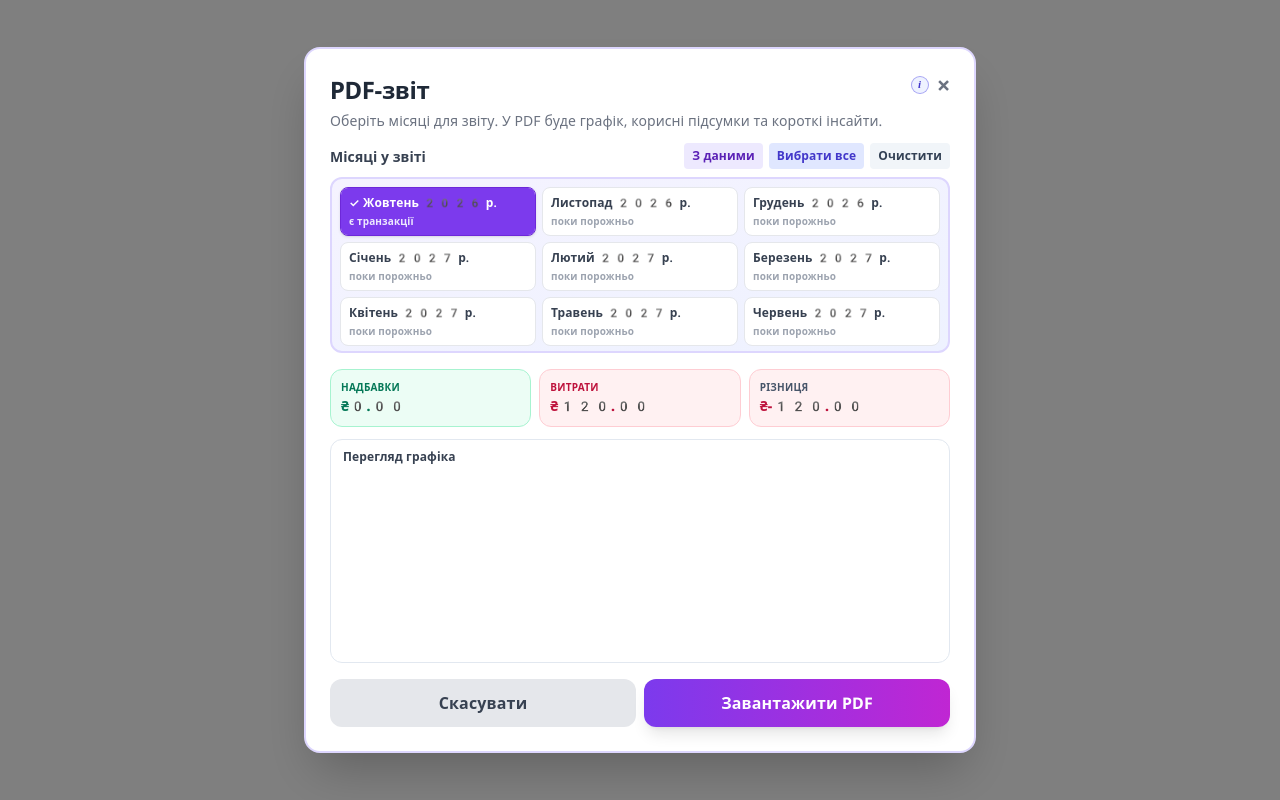
Test: PDF export modal lets the user pick months and requires at least one
Check: the heading "PDF-звіт" is shown, box [330, 72, 430, 106]
Check: the button "Завантажити PDF" is enabled, box [644, 680, 950, 728]
Click the button "Очистити".
click(910, 156)  # box [870, 143, 950, 169]
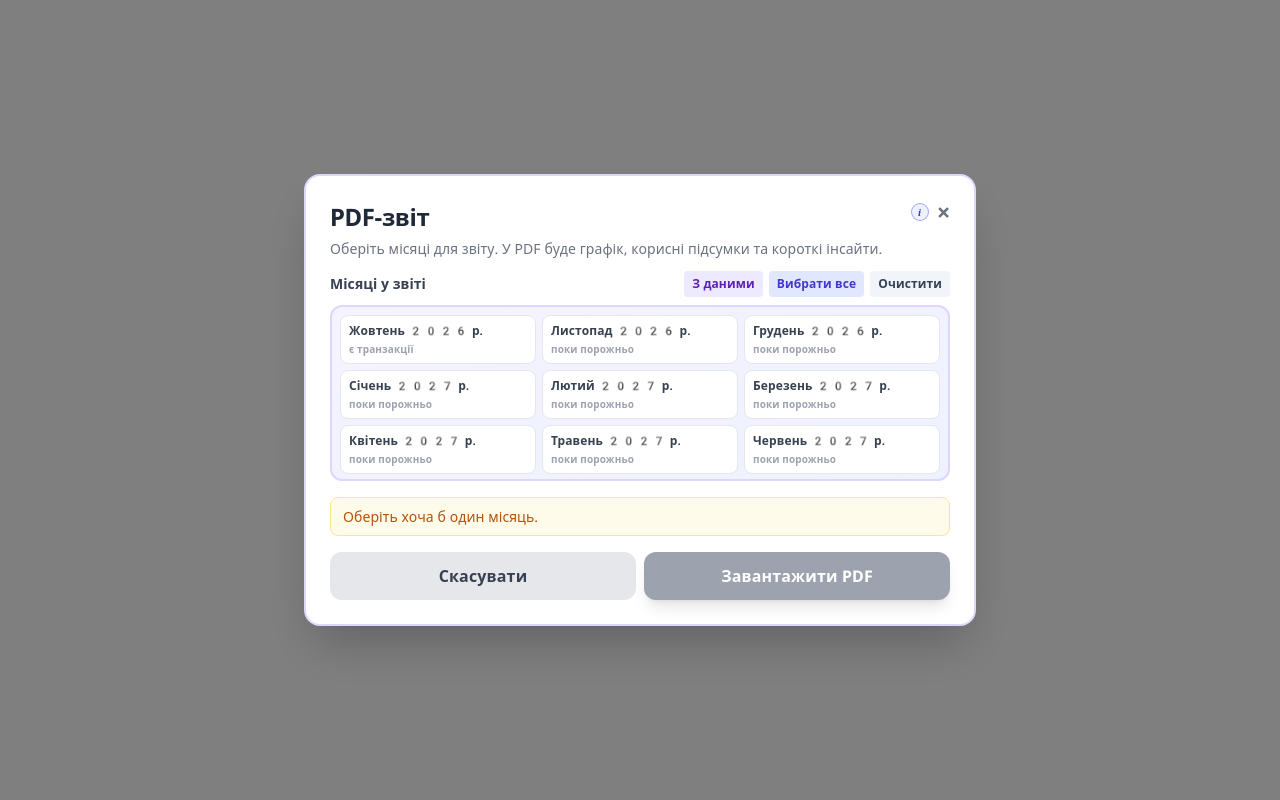
Check: the text "Оберіть хоча б один місяць." is shown, box [330, 497, 950, 536]
Check: the button "Завантажити PDF" is disabled, box [644, 552, 950, 600]
Click the button "З даними".
click(724, 284)  # box [684, 271, 763, 297]
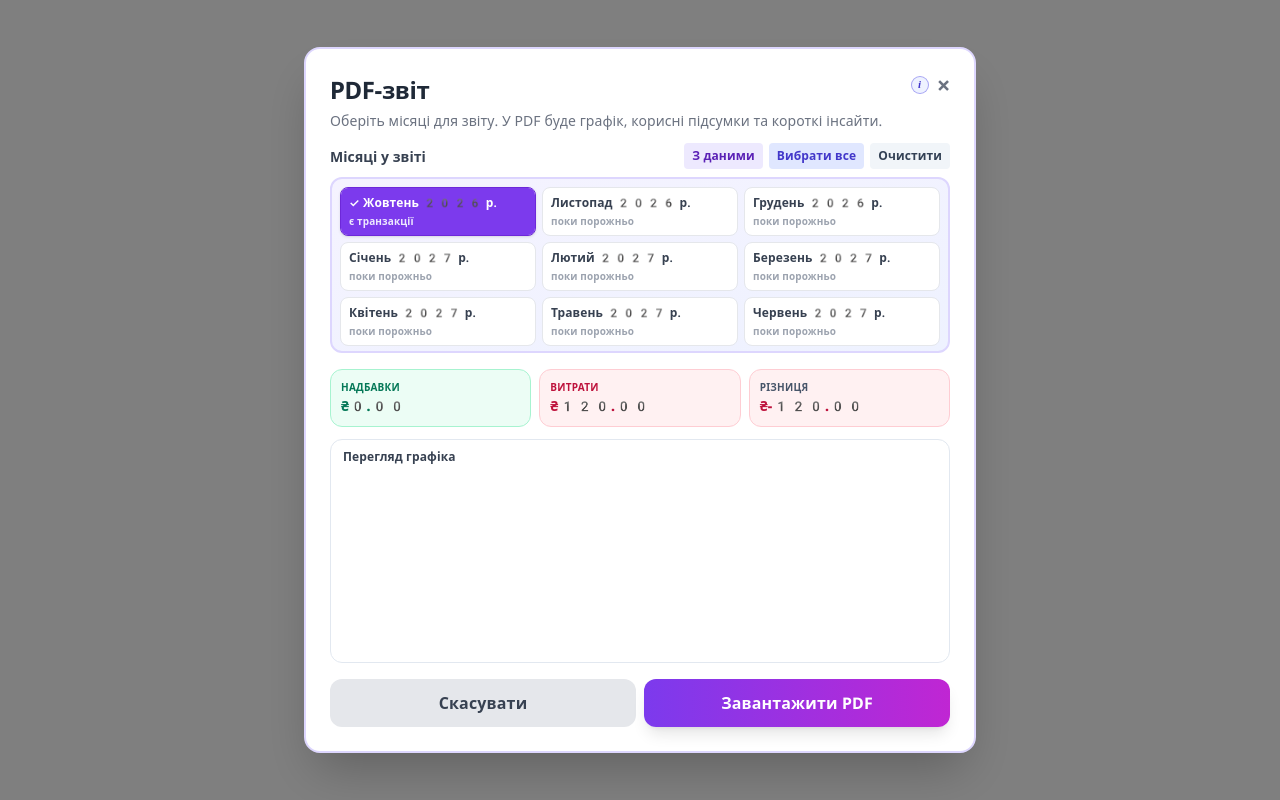
Check: the button "Завантажити PDF" is enabled, box [644, 680, 950, 728]
